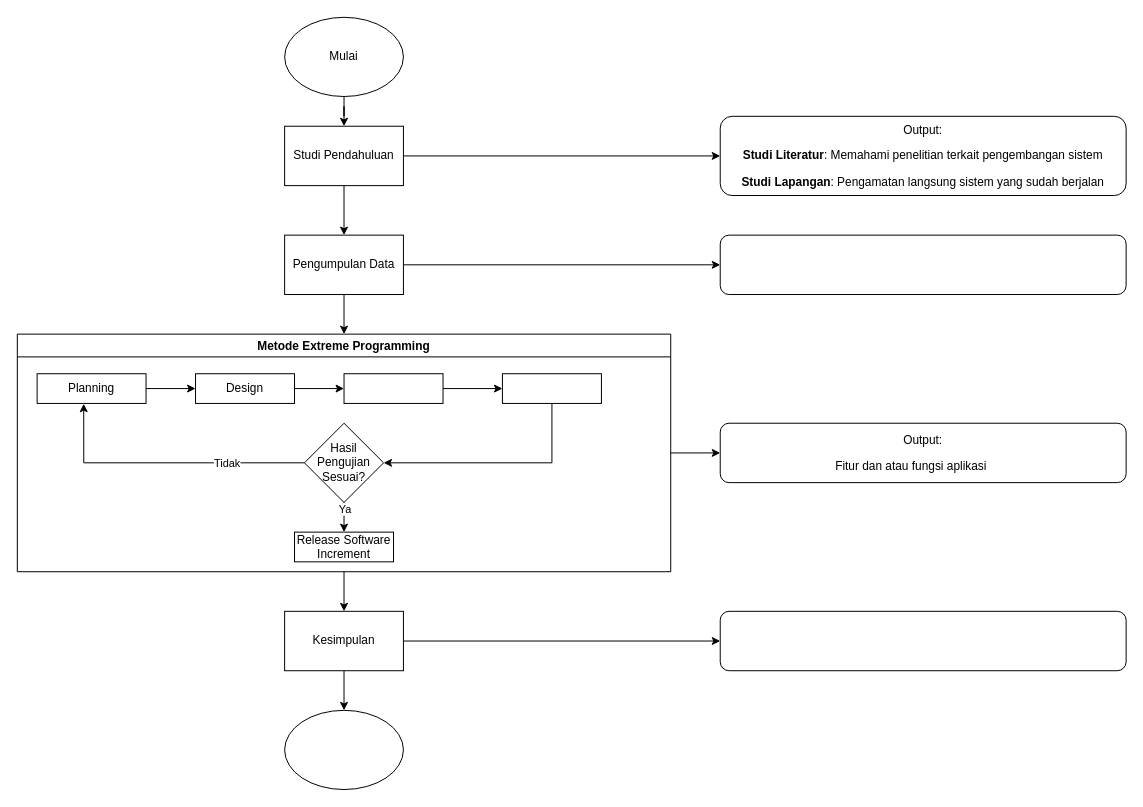
Some shapes in this 1143 by 807 pixel diagram are drawn without their labels. The shapes that lost their labels are listed below. From the top down, each one's centre as x and y in pixels, then its label:
At pixel 922 264: "Output: Mendapatkan data dari wawancara user".
At pixel 393 388: "Coding".
At pixel 551 388: "Testing".
At pixel 922 640: "Output: Merangkum hasil dari penelitian yang dilakukan".
At pixel 343 749: "Selesai".
